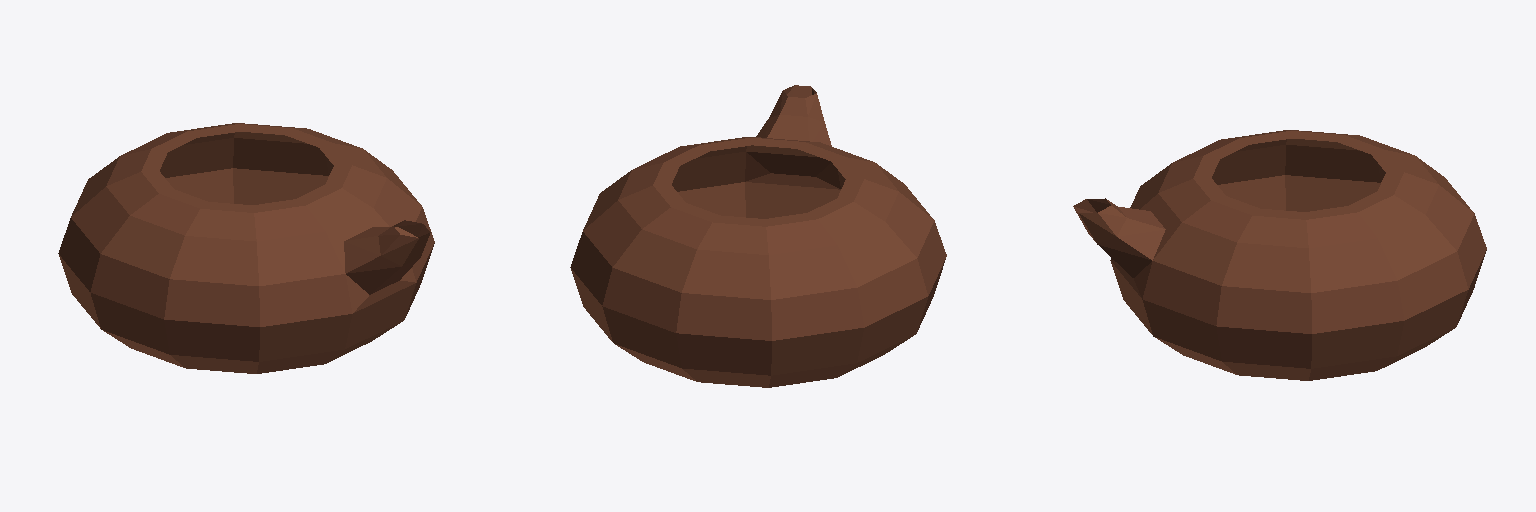
The model's file is original-3.obj.
The picture shows the model from 3 angles: view 1: azimuth 30°, elevation 25°; view 2: azimuth 150°, elevation 25°; view 3: azimuth 270°, elevation 25°; orthographic projection.
Parts seen in each view (by area): view 1: mesh2/mesh2-geometry#mesh2-geometry; view 2: mesh2/mesh2-geometry#mesh2-geometry; view 3: mesh2/mesh2-geometry#mesh2-geometry.
Part boxes in pixels (x1,y1,x2,y2): mesh2/mesh2-geometry#mesh2-geometry: (58,123,434,373); mesh2/mesh2-geometry#mesh2-geometry: (570,85,946,387); mesh2/mesh2-geometry#mesh2-geometry: (1073,130,1486,380).
Bounding box in the file's own units: 1.38 × 0.6598 × 1.51.